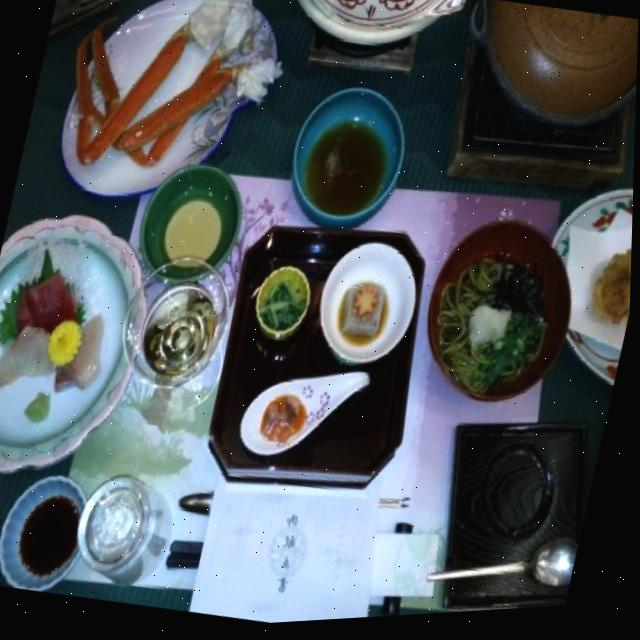刺身生食: (0, 187, 174, 496)
